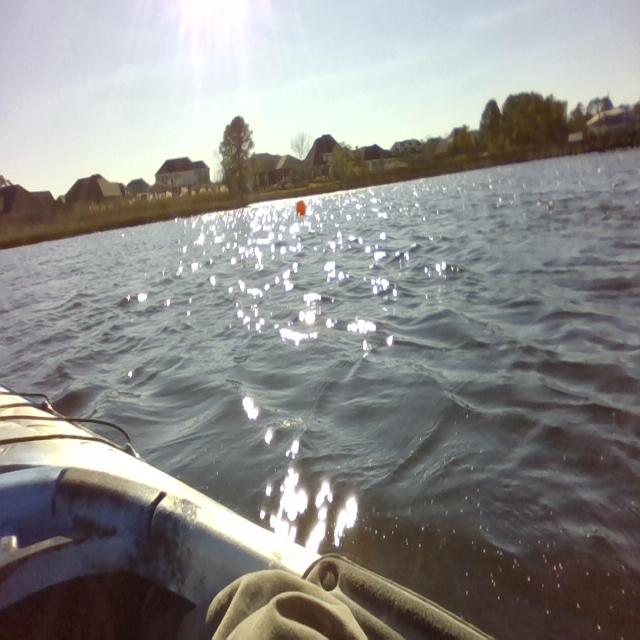Buoy: (293, 194, 312, 225)
